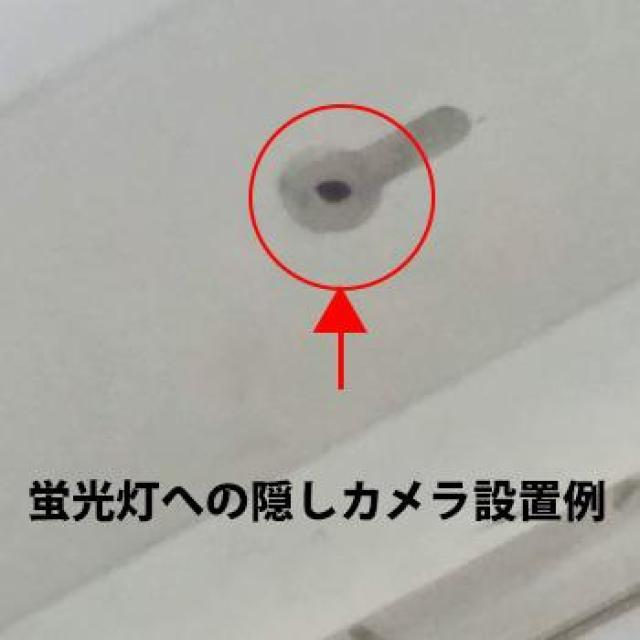hidden camera: (302, 159, 364, 216)
